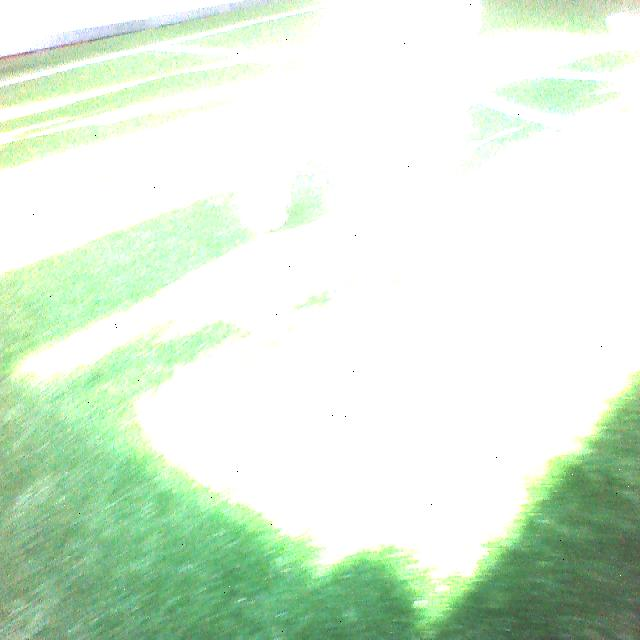ball: (230, 158, 295, 242)
